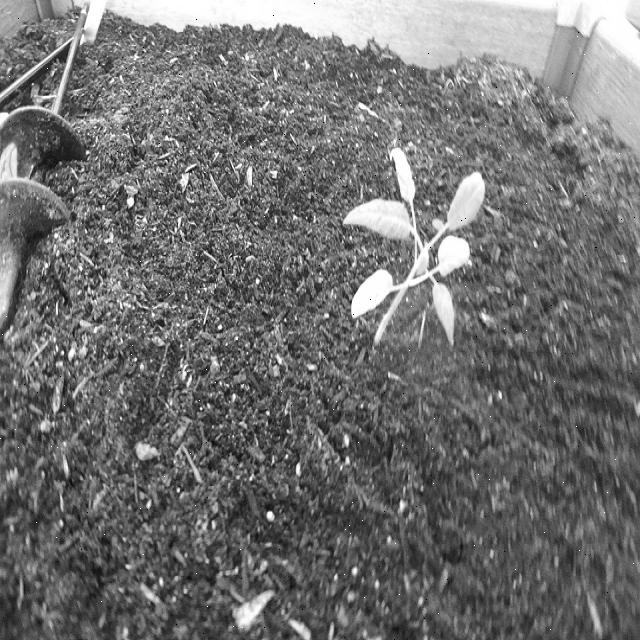Healthy: (340, 143, 490, 354)
